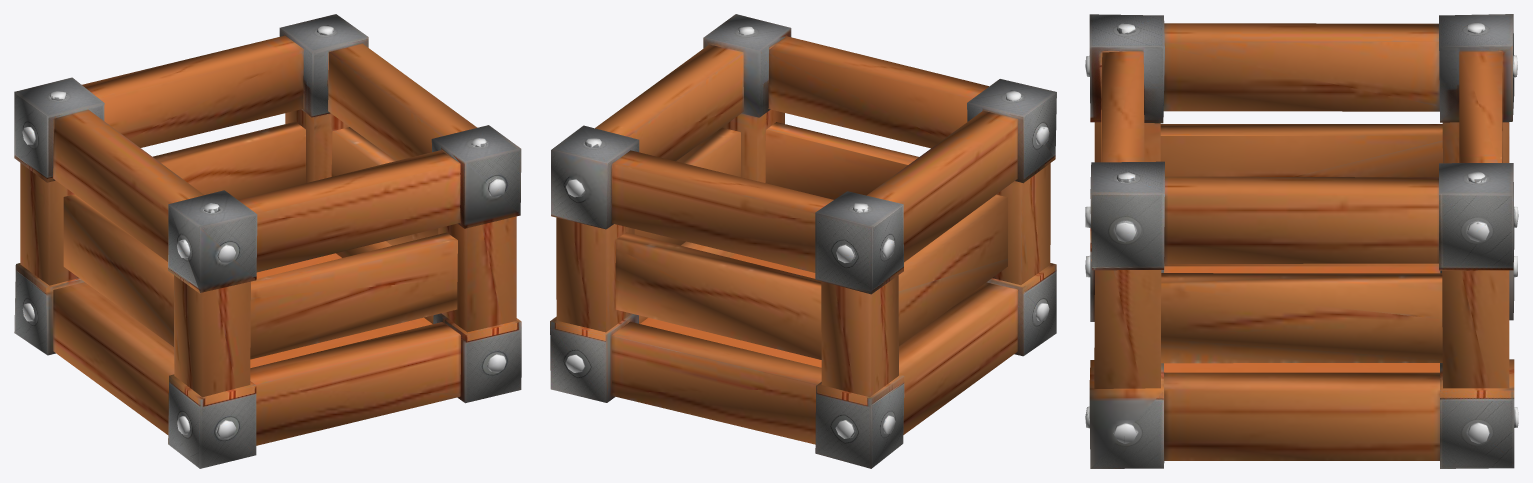
File: crate_2.glb
3 renders of one model, left to right at view 1: azimuth 30°, elevation 25°; view 2: azimuth 150°, elevation 25°; view 3: azimuth 270°, elevation 25°, orthographic. The views are drawn at different scales.
Visible parts, largest first — view 1: Mesh_0; view 2: Mesh_0; view 3: Mesh_0.
Boxes of the visible parts, bbox=[...] form: Mesh_0: bbox=[14, 14, 521, 468]; Mesh_0: bbox=[550, 14, 1056, 468]; Mesh_0: bbox=[1085, 14, 1518, 468].
Size of the model in its own units: 0.7 by 0.5072 by 0.7.
1 material, 1 textured.
